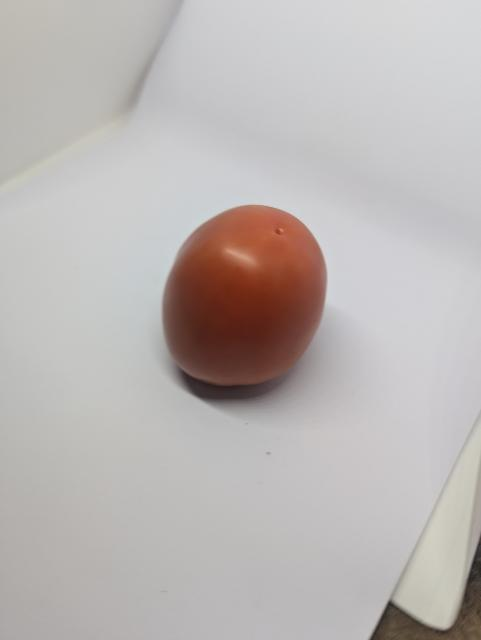red: (155, 193, 332, 403)
